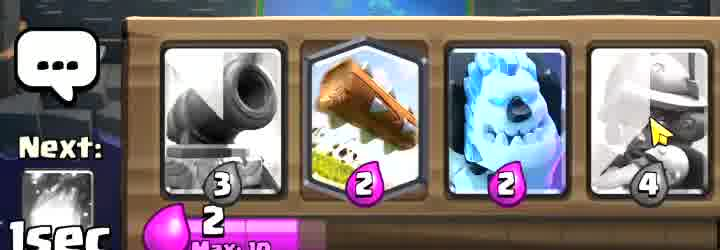ice-golem: (448, 53, 561, 198)
log: (309, 43, 423, 195)
